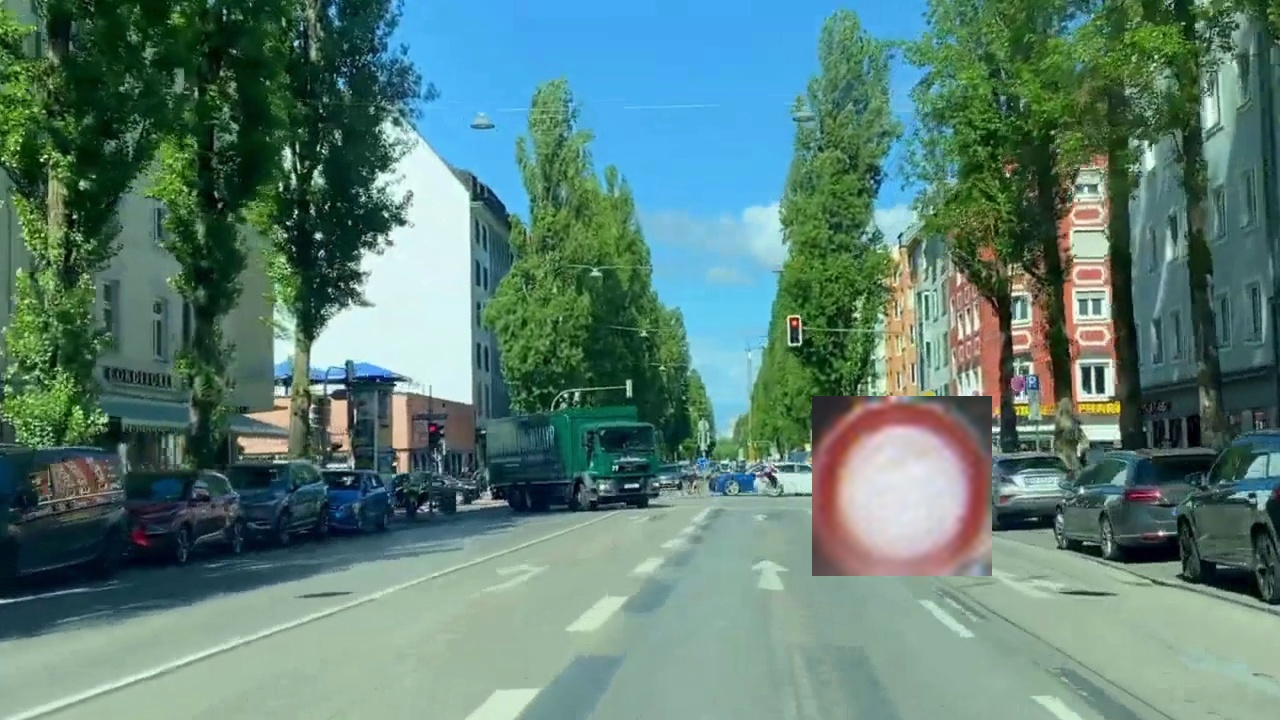No vehicles: (812, 396, 992, 576)
